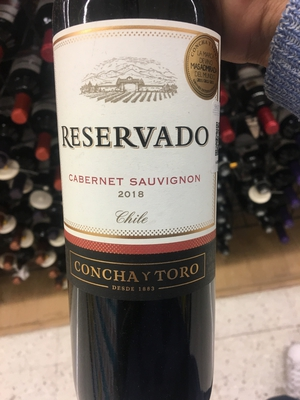reservado cabernet sauvignon: (43, 6, 240, 391)
